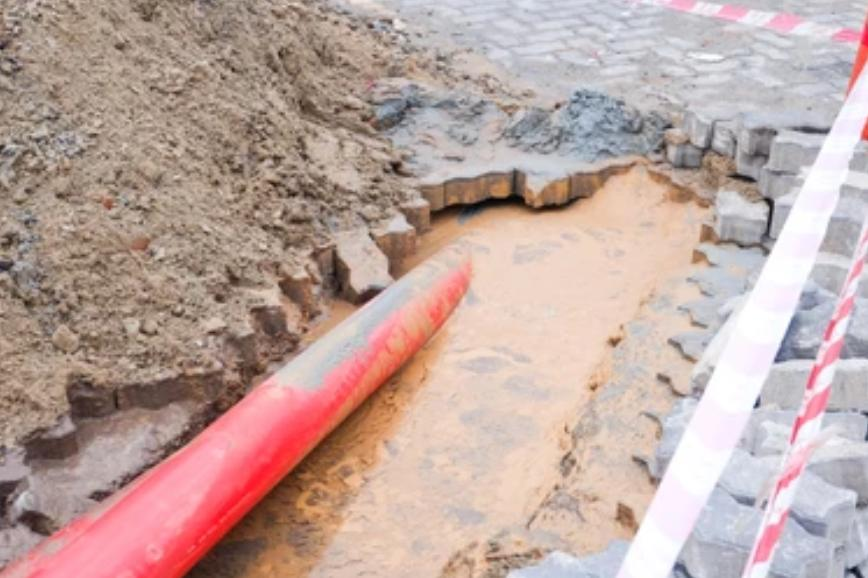water accumulation: (178, 161, 720, 578)
